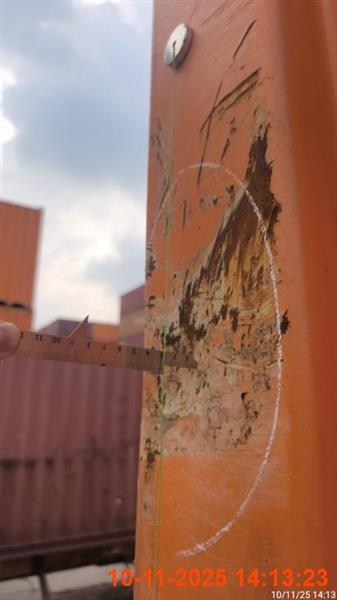bent: (163, 23, 192, 68)
